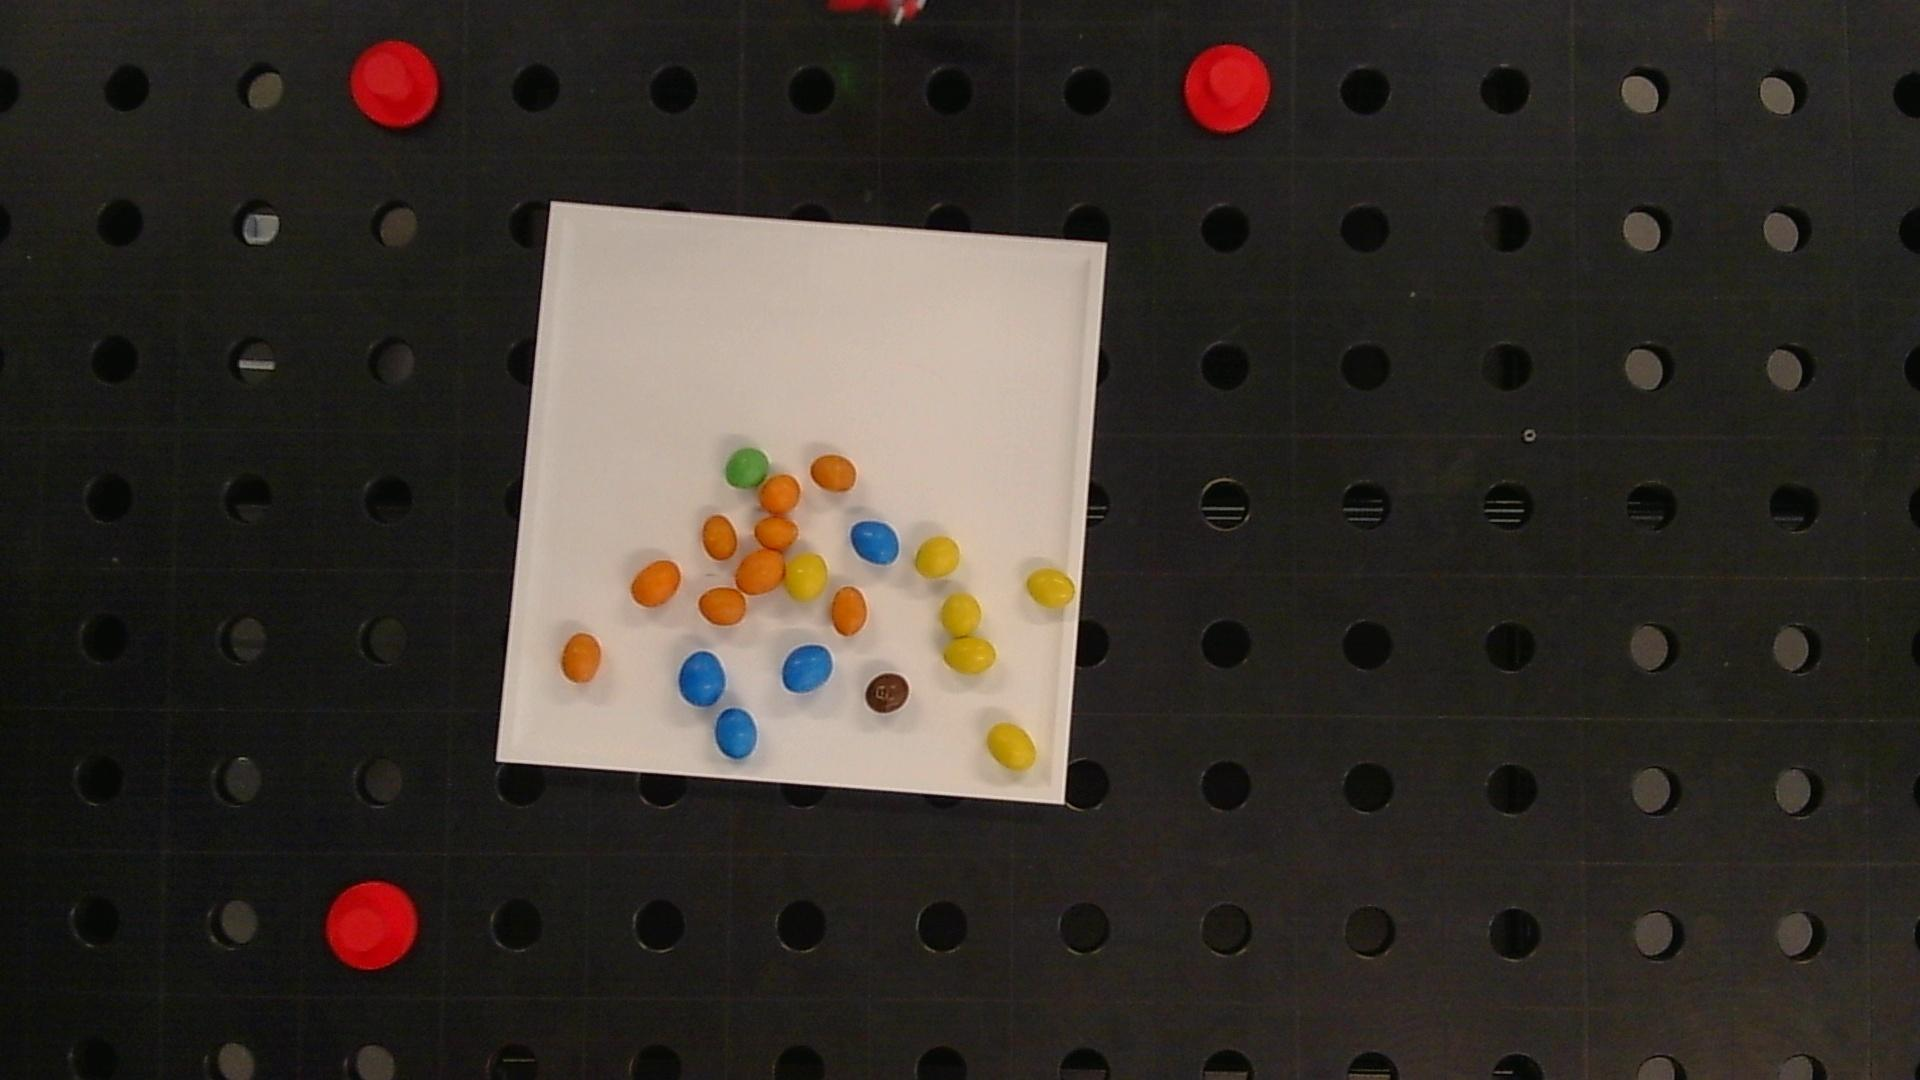blue: (679, 651, 725, 707), (782, 645, 832, 692), (851, 520, 901, 566), (715, 708, 758, 758)
brown: (865, 673, 910, 713)
green: (725, 448, 769, 487)
orange: (630, 559, 680, 607), (736, 550, 785, 593), (560, 632, 601, 682), (699, 587, 746, 625), (811, 454, 857, 492), (832, 587, 866, 636), (703, 514, 738, 559), (760, 475, 799, 513), (756, 517, 799, 550)
yellow: (986, 723, 1038, 770), (785, 554, 828, 600), (1026, 568, 1076, 608), (916, 537, 961, 579), (944, 638, 997, 674), (942, 595, 982, 637)
